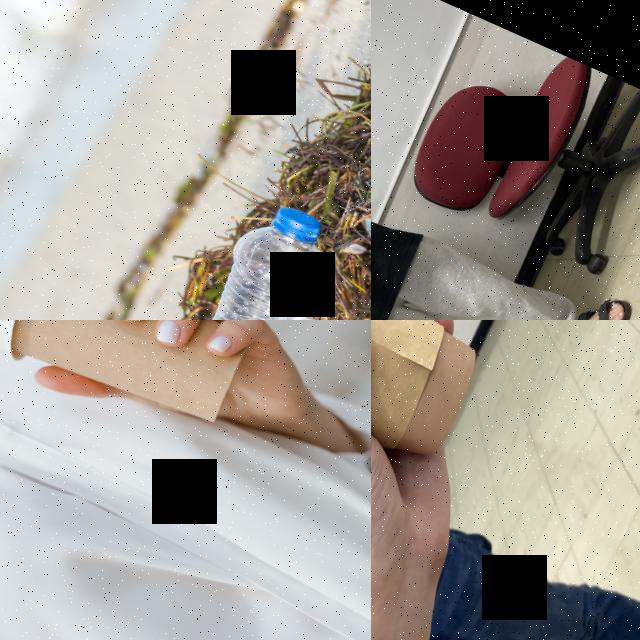bottle: (165, 194, 352, 320)
cup: (0, 320, 268, 448), (371, 320, 507, 504)
